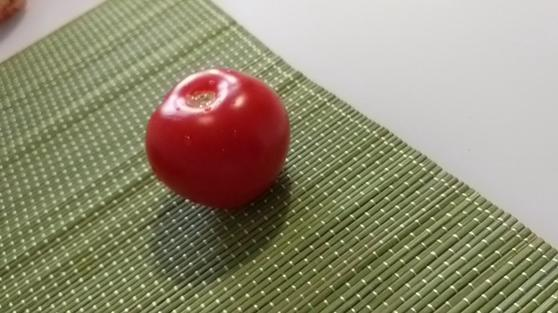tomato: (145, 67, 299, 201)
